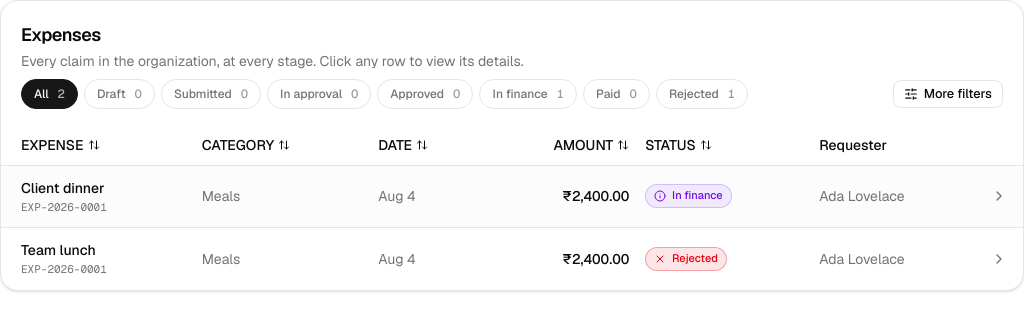
OrgWideExpenseList › filters the table to the chosen status chip
The width and height of the screenshot is (1024, 309).
Click the button "Rejected 1".
click(702, 94)  # box [656,79,748,109]
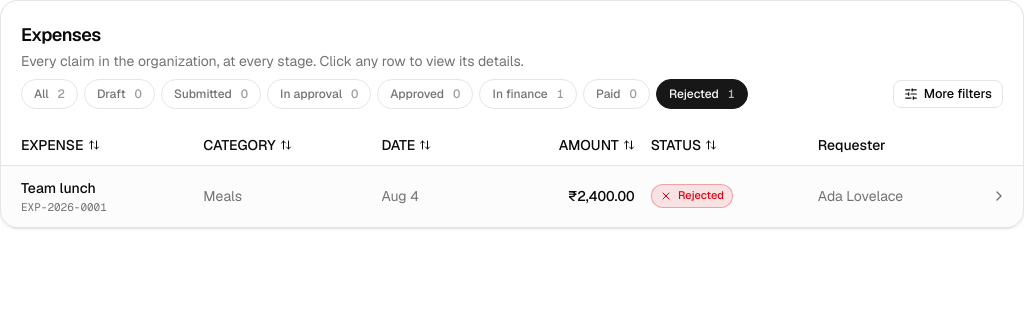
Expected: the text "Team lunch" is shown, [21,178,96,196]
Expected: the text "Client dinner" is gone
